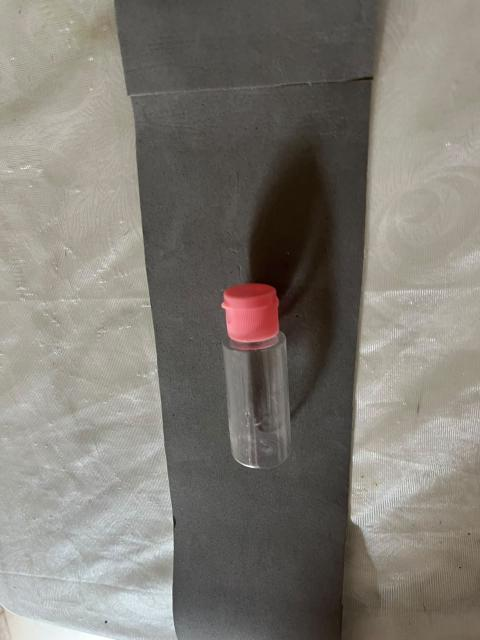PET: (202, 265, 318, 495)
